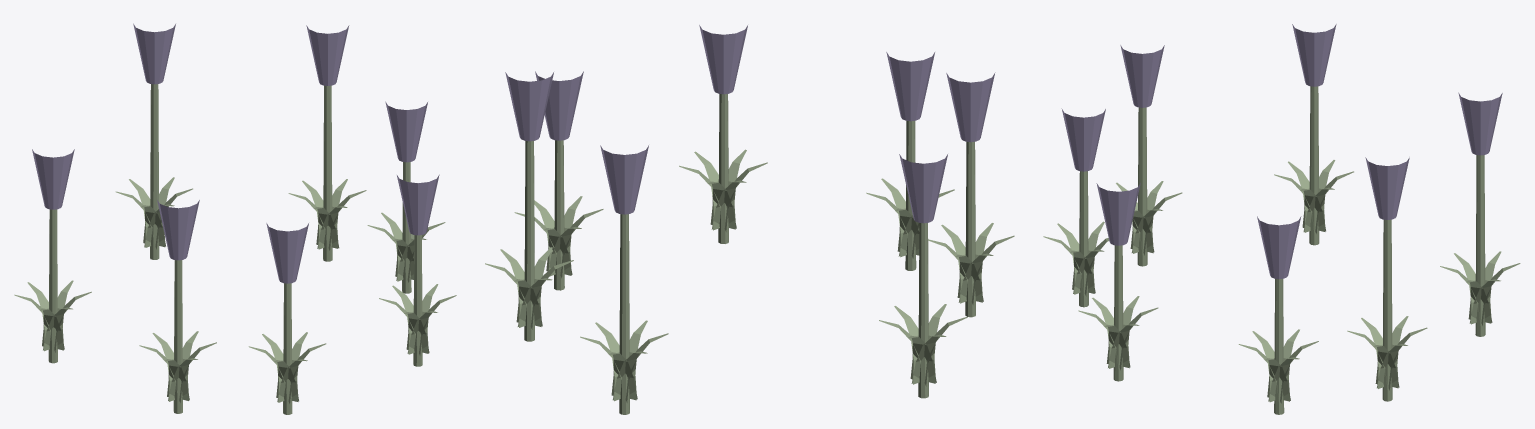
The model's file is alpine-and-arctic-biomes-gentian-patch-31fead6a__20977.glb.
3 views of the same model, side by side, from view 1: azimuth 30°, elevation 25°; view 2: azimuth 150°, elevation 25°; view 3: azimuth 270°, elevation 25° (orthographic). The views are drawn at different scales.
Parts seen in each view (by area): view 1: gentian-patch; view 2: gentian-patch; view 3: gentian-patch.
Part boxes in pixels (<box>): gentian-patch: <box>14,23,456,414</box>; gentian-patch: <box>485,25,1014,414</box>; gentian-patch: <box>1043,24,1520,414</box>.
Size of the model in its own units: 0.4701 by 0.265 by 0.4719.
